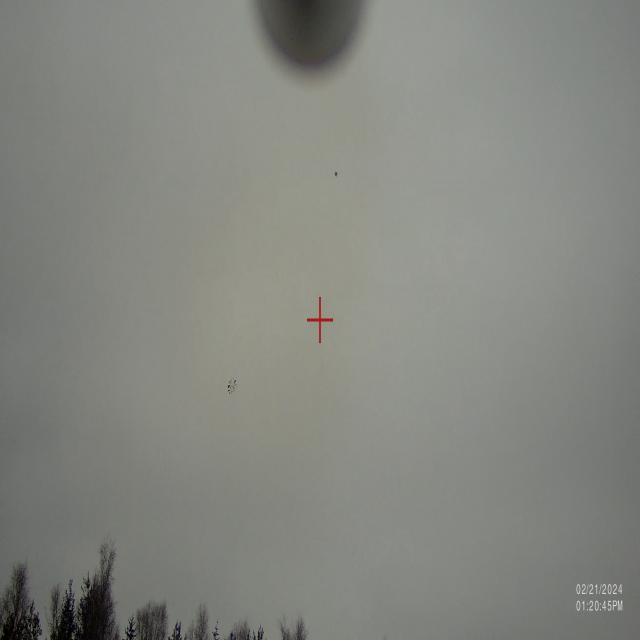broken: (220, 373, 244, 403)
